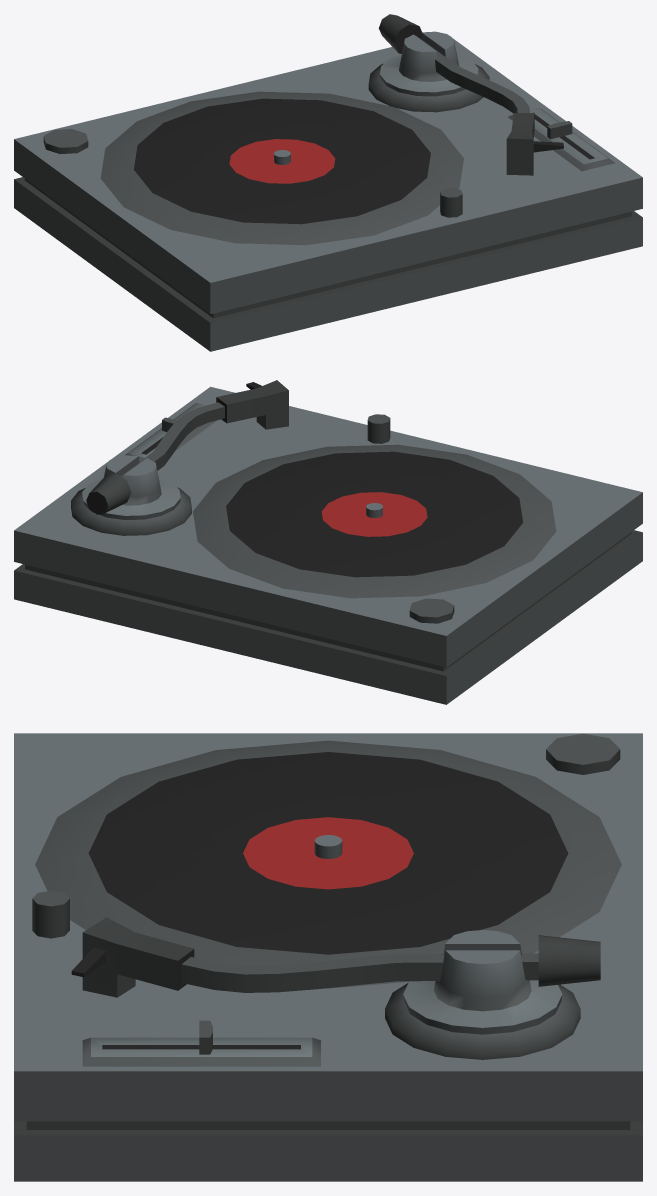
File: human-music-turntable_v1.fbx
3 renders of one model, top to bottom at view 1: azimuth 30°, elevation 25°; view 2: azimuth 150°, elevation 25°; view 3: azimuth 270°, elevation 25°, orthographic. The views are drawn at different scales.
Visible parts, largest first — view 1: Turntable.001; view 2: Turntable.001; view 3: Turntable.001.
Boxes of the visible parts, bbox=[...] form: Turntable.001: bbox=[14, 14, 642, 351]; Turntable.001: bbox=[14, 380, 642, 704]; Turntable.001: bbox=[14, 733, 642, 1181].
Size of the model in its own units: 0.45 by 0.1185 by 0.354.
